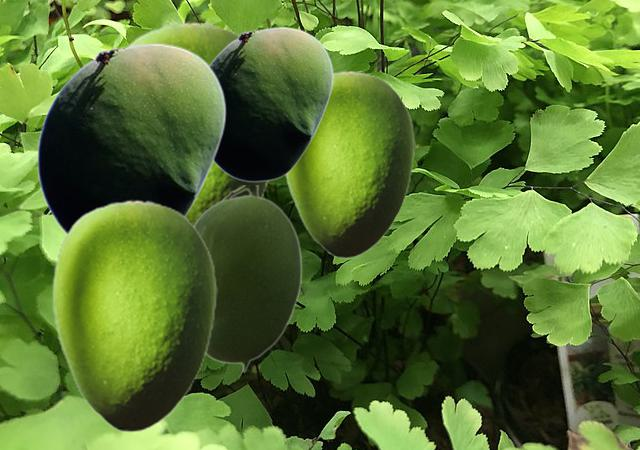green_mango: (51, 199, 216, 431), (36, 42, 226, 235), (124, 21, 272, 222), (283, 70, 414, 257), (193, 185, 301, 372), (210, 26, 333, 181)
